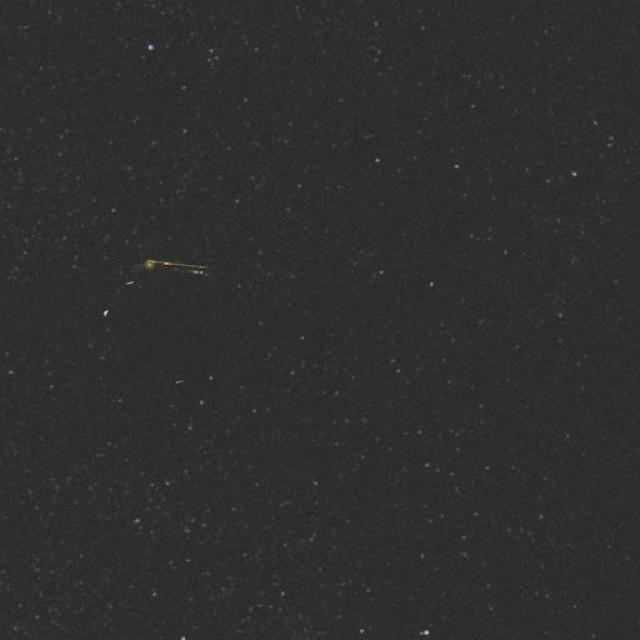earth_observation_sat_1: (61, 234, 254, 376)
